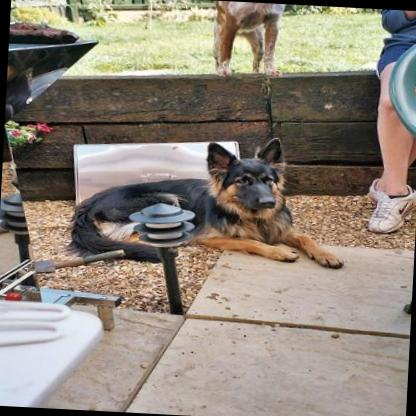German_shepherd: (62, 124, 351, 270), (207, 0, 283, 79)
